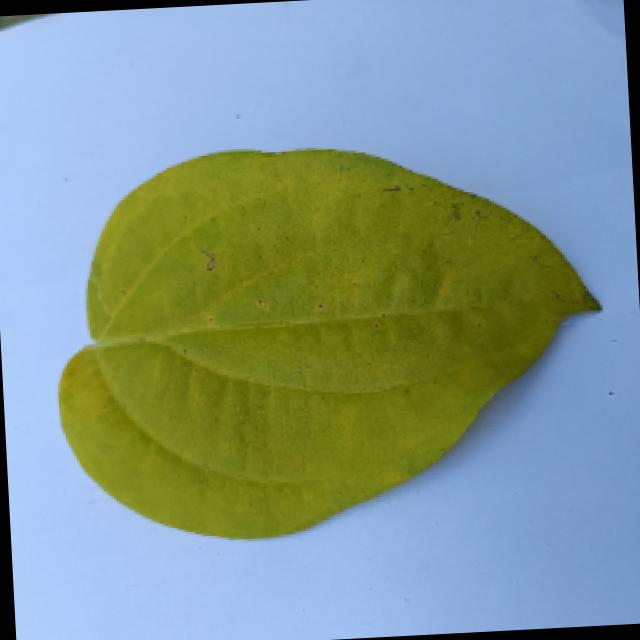slow-decline: (49, 133, 606, 546)
